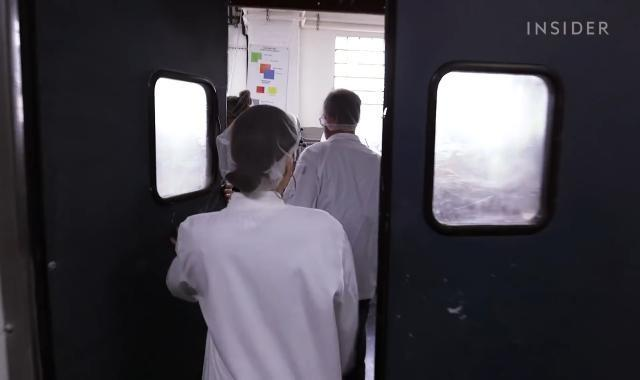gloves: (215, 103, 304, 192), (318, 88, 364, 130)
